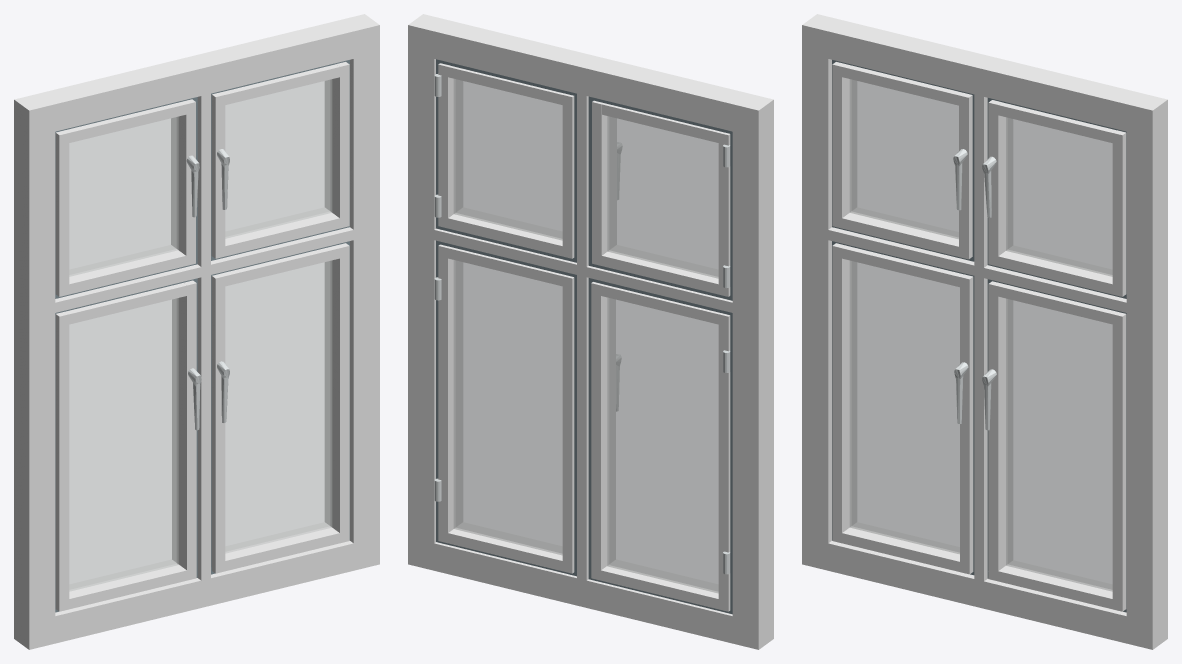
File: Window2 white 1731.glb
3 views of the same model, side by side, from view 1: azimuth 30°, elevation 25°; view 2: azimuth 150°, elevation 25°; view 3: azimuth 330°, elevation 25° (orthographic).
Parts seen in each view (by area): view 1: group593852955, group318304251, group2040139540, group279100259, group1567990600, group882742281, group1443614901, group1095300195, group1535698133, group89352579, group684877801, group564018101 (+12 smaller); view 2: group593852955, group318304251, group2040139540, group279100259, group1567990600, group1443614901, group882742281, group1095300195, group1535698133, group684877801, group89352579, group564018101 (+19 smaller); view 3: group593852955, group318304251, group882742281, group2040139540, group279100259, group1567990600, group1443614901, group1095300195, group1535698133, group1097680268, group116658328, group564018101 (+13 smaller).
Part boxes in pixels (box(x1,y1,x2,y2)): group593852955: box(69, 298, 178, 591); group318304251: box(225, 260, 332, 553); group2040139540: box(14, 123, 55, 639); group279100259: box(14, 14, 379, 137); group1567990600: box(69, 117, 178, 276); group882742281: box(350, 50, 379, 543); group1443614901: box(225, 79, 332, 238); group1095300195: box(14, 537, 379, 649); group1535698133: box(211, 62, 349, 258); group89352579: box(325, 243, 349, 543); group684877801: box(172, 280, 196, 580); group564018101: box(197, 88, 210, 587); group593852955: box(607, 297, 718, 593); group318304251: box(453, 260, 562, 554); group2040139540: box(732, 127, 773, 639); group279100259: box(408, 14, 773, 137); group1567990600: box(607, 116, 718, 278); group1443614901: box(453, 79, 562, 240); group882742281: box(408, 52, 435, 546); group1095300195: box(408, 540, 773, 649); group1535698133: box(438, 63, 574, 258); group684877801: box(591, 282, 615, 580); group89352579: box(438, 244, 462, 542); group564018101: box(577, 93, 588, 580); group593852955: box(850, 261, 959, 554); group318304251: box(1006, 299, 1112, 591); group882742281: box(1126, 127, 1167, 622); group2040139540: box(802, 43, 831, 560); group279100259: box(802, 14, 1167, 137); group1567990600: box(850, 79, 958, 239); group1443614901: box(1006, 117, 1112, 276); group1095300195: box(802, 541, 1167, 649); group1535698133: box(988, 100, 1126, 296); group1097680268: box(832, 243, 856, 543); group116658328: box(988, 281, 1012, 581); group564018101: box(974, 89, 987, 587).
Bounding box in the file's own units: 1.64 × 2.41 × 0.2048.
